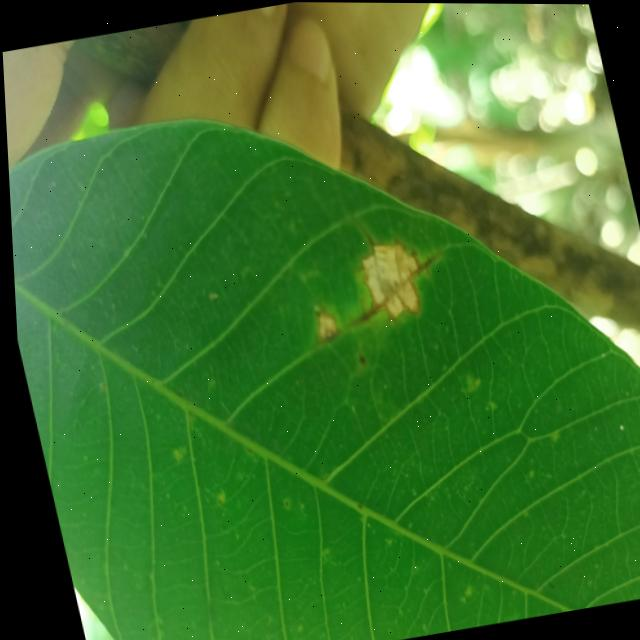Corynespora: (345, 296, 385, 328), (408, 248, 438, 278)
Leaf-Blight: (354, 239, 425, 320), (304, 308, 337, 344)
